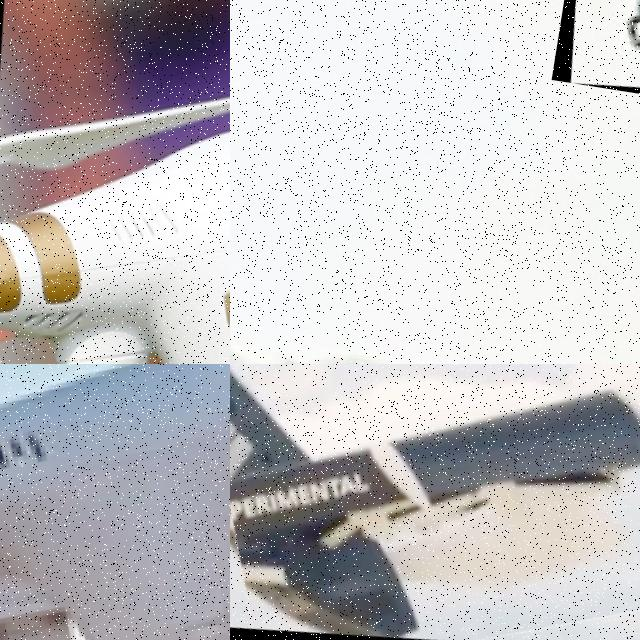drone: (230, 364, 640, 640), (0, 0, 230, 364), (0, 364, 230, 640), (551, 0, 640, 112)
